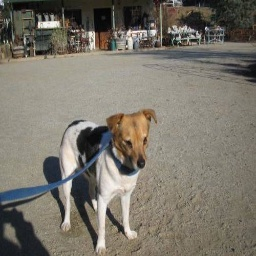dog: (57, 100, 150, 248)
